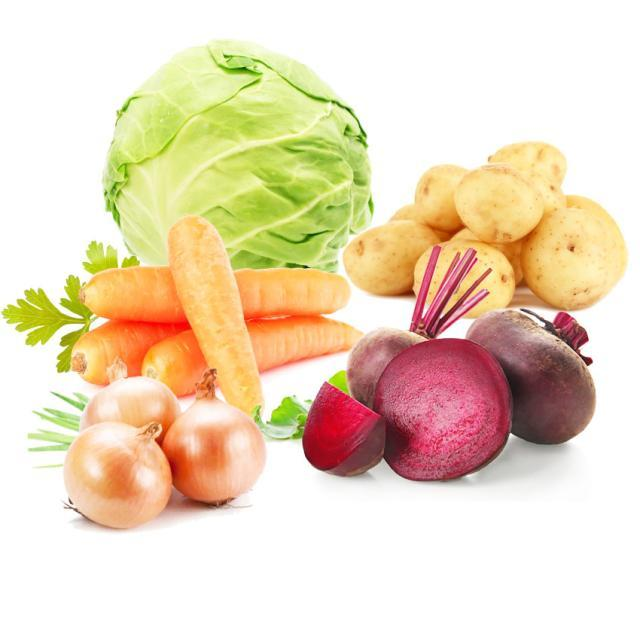beet: (464, 292, 604, 452), (379, 335, 509, 489), (296, 366, 384, 482), (345, 327, 461, 413)
cabbage: (85, 29, 377, 289)
carrot: (156, 211, 273, 429), (79, 260, 361, 336), (139, 323, 377, 390), (57, 305, 187, 387)
onion: (39, 414, 178, 534), (165, 375, 269, 510), (78, 370, 182, 456)
potato: (525, 190, 620, 307), (414, 235, 512, 315), (339, 215, 431, 297), (458, 159, 542, 243), (408, 162, 472, 223)
